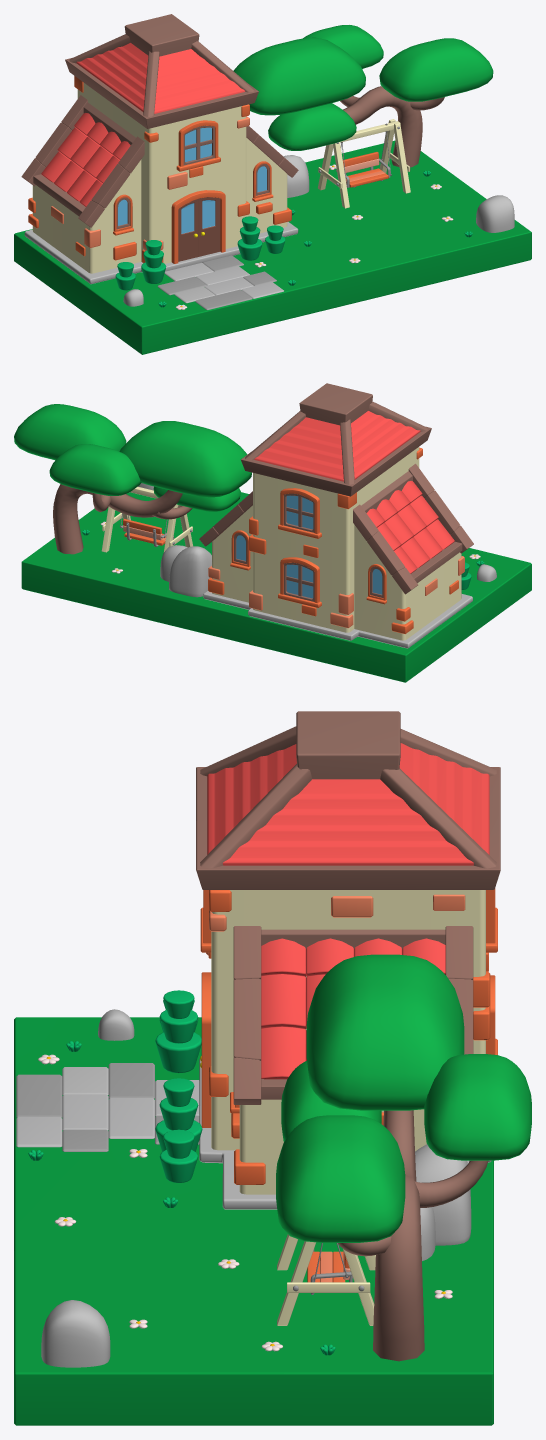
File: Town_Island_8.glb
3 views of the same model, one above another, from view 1: azimuth 30°, elevation 25°; view 2: azimuth 150°, elevation 25°; view 3: azimuth 270°, elevation 25° (orthographic). The views are drawn at different scales.
Visible parts, largest first — view 1: Town_8_House_1, Town_8_Base_1, Town_8_Tree_1, Town_8_Path_1, Town_8_Garden_Swing_1, Town_8_Stone_2, Town_8_Plant_3, Town_8_Plant_4, Town_8_Stone_1, Town_8_Plant_2, Town_8_Plant_5; view 2: Town_8_House_1, Town_8_Base_1, Town_8_Tree_1, Town_8_Garden_Swing_1, Town_8_Stone_3, Town_8_Stone_1; view 3: Town_8_Base_1, Town_8_House_1, Town_8_Tree_1, Town_8_Path_1, Town_8_Garden_Swing_1, Town_8_Stone_2, Town_8_Stone_3, Town_8_Plant_4, Town_8_Plant_3, Town_8_Plant_5, Town_8_Stone_4.
Boxes of the visible parts, x1=… form: Town_8_House_1: x1=21, y1=14, x2=298, y2=284; Town_8_Base_1: x1=14, y1=140, x2=531, y2=354; Town_8_Tree_1: x1=233, y1=25, x2=493, y2=167; Town_8_Path_1: x1=157, y1=255, x2=283, y2=310; Town_8_Garden_Swing_1: x1=318, y1=119, x2=410, y2=208; Town_8_Stone_2: x1=476, y1=195, x2=514, y2=232; Town_8_Plant_3: x1=237, y1=216, x2=262, y2=260; Town_8_Plant_4: x1=141, y1=240, x2=166, y2=283; Town_8_Stone_1: x1=283, y1=155, x2=309, y2=197; Town_8_Plant_2: x1=115, y1=262, x2=135, y2=290; Town_8_Plant_5: x1=265, y1=225, x2=285, y2=253; Town_8_House_1: x1=199, y1=383, x2=473, y2=648; Town_8_Base_1: x1=21, y1=492, x2=531, y2=682; Town_8_Tree_1: x1=14, y1=404, x2=251, y2=554; Town_8_Garden_Swing_1: x1=101, y1=486, x2=192, y2=552; Town_8_Stone_3: x1=169, y1=546, x2=211, y2=597; Town_8_Stone_1: x1=160, y1=545, x2=187, y2=581; Town_8_Base_1: x1=14, y1=1017, x2=493, y2=1425; Town_8_House_1: x1=196, y1=711, x2=500, y2=1209; Town_8_Tree_1: x1=276, y1=954, x2=531, y2=1361; Town_8_Path_1: x1=16, y1=1063, x2=199, y2=1151; Town_8_Garden_Swing_1: x1=277, y1=1234, x2=375, y2=1325; Town_8_Stone_2: x1=41, y1=1300, x2=110, y2=1367; Town_8_Stone_3: x1=415, y1=1144, x2=471, y2=1245; Town_8_Plant_4: x1=155, y1=990, x2=201, y2=1073; Town_8_Plant_3: x1=155, y1=1078, x2=202, y2=1151; Town_8_Plant_5: x1=159, y1=1129, x2=197, y2=1182; Town_8_Stone_4: x1=98, y1=1009, x2=134, y2=1040.
Bounding box in the file's own units: 17.95 × 9.33 × 10.
Materials: 26 (26 with a texture image).
